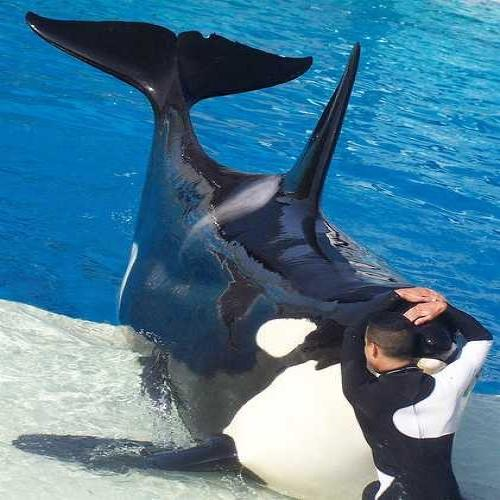killer_whale-endangered: (101, 163, 490, 476)
